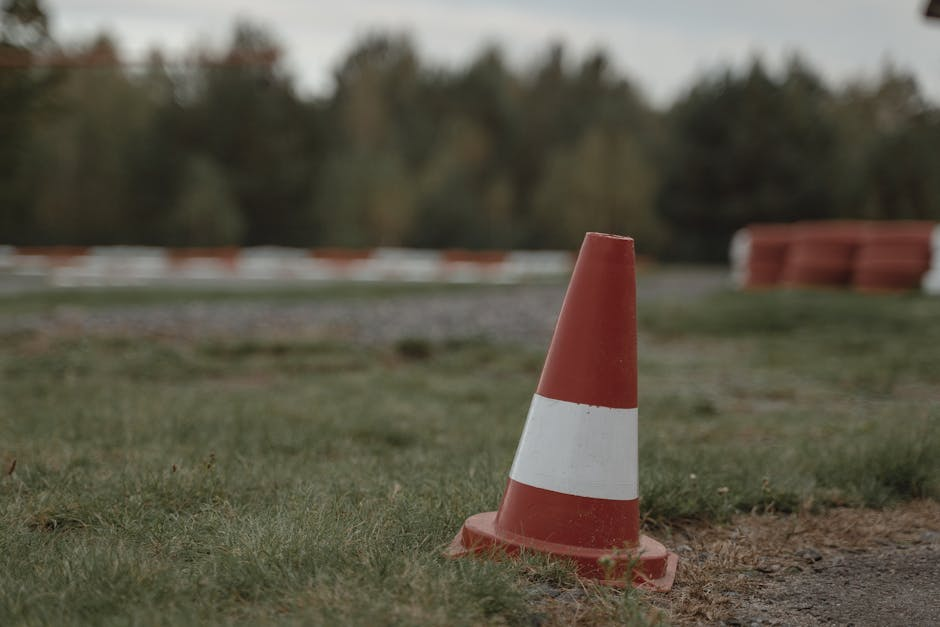traffic_cone: (443, 230, 678, 593)
